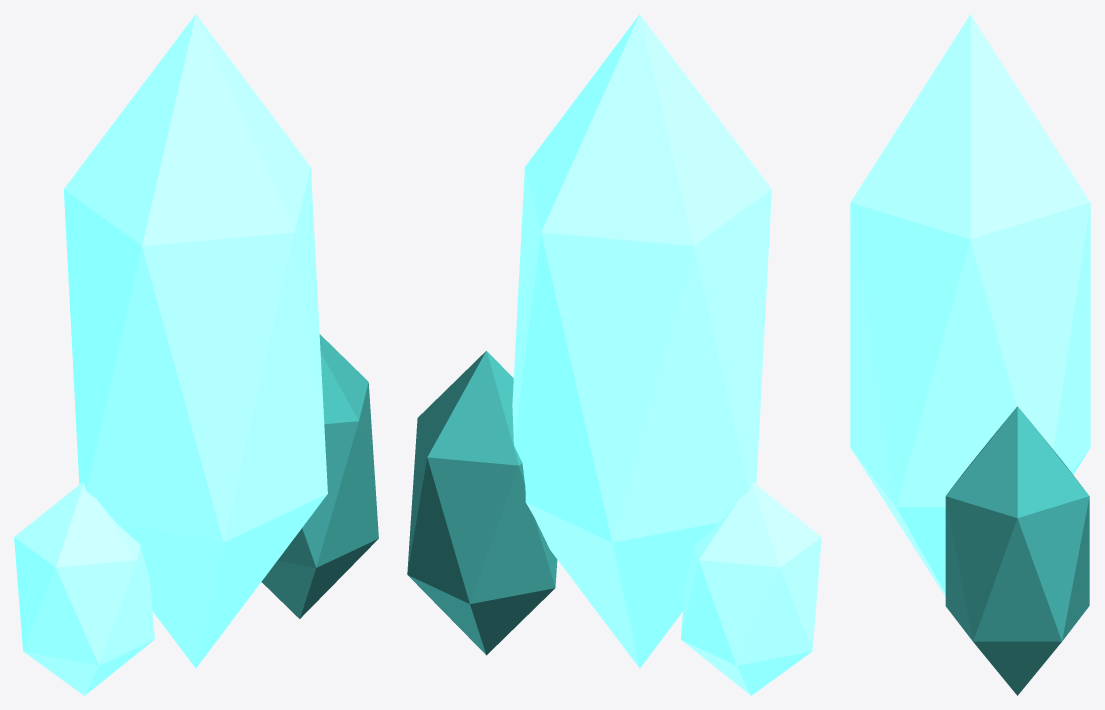
The model's file is Crystal.glb.
The picture shows the model from 3 angles, left to right: view 1: azimuth 30°, elevation 25°; view 2: azimuth 150°, elevation 25°; view 3: azimuth 270°, elevation 25°; orthographic projection. The views are drawn at different scales.
Visible parts, largest first — view 1: Glow.003, Glow.004, Teal.006; view 2: Glow.003, Teal.006, Glow.004; view 3: Glow.003, Teal.006.
Boxes of the visible parts, x1,y1,x2,y2 form: Glow.003: [64, 14, 327, 668]; Glow.004: [14, 482, 154, 695]; Teal.006: [261, 334, 378, 618]; Glow.003: [512, 14, 771, 668]; Teal.006: [407, 351, 557, 655]; Glow.004: [681, 482, 821, 695]; Glow.003: [850, 14, 1090, 596]; Teal.006: [945, 406, 1089, 695].
Bounding box in the file's own units: 0.8641 × 1.46 × 0.5104.
